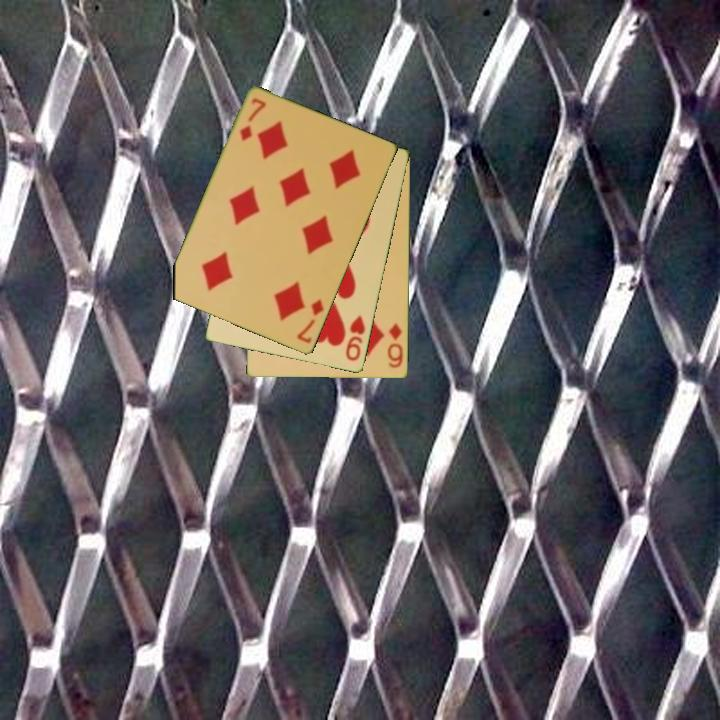6d: (385, 319, 406, 371)
7d: (294, 296, 327, 347), (236, 95, 269, 144)
9h: (342, 311, 368, 364)
